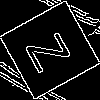Z: (25, 25, 80, 74)
